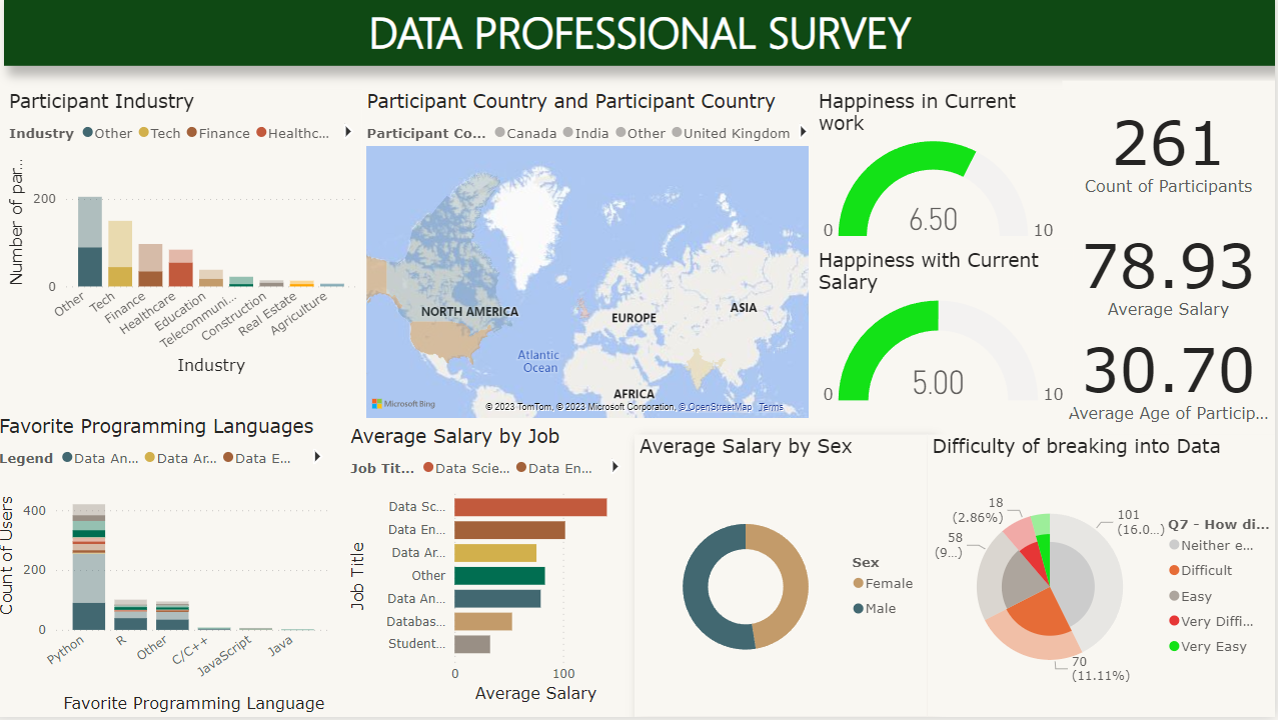

The page's visual inventory and layout, read from the dashboard file:
{"tool":"powerbi","page":{"name":"Page 1","canvas":[1280,720],"ordinal":0},"visuals":[{"type":"textbox","box":[9.6,0,1271,68.6],"z":0},{"type":"card","fields":{"Values":["CountNonNull(Data Professional Survey.Unique ID)"]},"box":[1067.5,83.8,212.5,136.2],"z":1000},{"type":"card","fields":{"Values":["Avg(Data Professional Survey.Q10 - Current Age)"]},"box":[1067.5,320,212.5,117.5],"z":2000},{"type":"barChart","title":"Average Salary by Job","fields":{"Y":["Avg(Data Professional Survey.Average Salary)"],"Category":["Data Professional Survey.Q1 - Which Title Best Fits your Current Role?.1"],"Series":["Data Professional Survey.Q1 - Which Title Best Fits your Current Role?.1"]},"box":[351.2,427.5,288.8,282.5],"z":3000},{"type":"card","fields":{"Values":["Avg(Data Professional Survey.Average Salary)"]},"box":[1067.5,206.2,212.5,136.2],"z":4000},{"type":"columnChart","title":"Favorite Programming Languages","fields":{"Category":["Data Professional Survey.Q5 - Favorite Programming Language.1"],"Y":["CountNonNull(Data Professional Survey.Unique ID)"],"Series":["Data Professional Survey.Q1 - Which Title Best Fits your Current Role?.1"]},"box":[0,417.5,342.5,302.5],"z":5000},{"type":"filledMap","fields":{"Category":["Data Professional Survey.Q11 - Which Country do you live in?.1"],"Series":["Data Professional Survey.Q11 - Which Country do you live in?.1"]},"box":[367.5,92.5,451.2,333.8],"z":6000},{"type":"gauge","title":"Happiness in  Current work","fields":{"Y":["Avg(Data Professional Survey.Q6 - How Happy are you in your Current Position with the following? (Coworkers))"],"MinValue":["Min(Data Professional Survey.Q6 - How Happy are you in your Current Position with the following? (Coworkers))1"],"MaxValue":["Max(Data Professional Survey.Q6 - How Happy are you in your Current Position with the following? (Coworkers))2"]},"box":[818.8,92.5,250,158.8],"z":7000},{"type":"gauge","title":"Happiness with Current  Salary","fields":{"Y":["Avg(Data Professional Survey.Q6 - How Happy are you in your Current Position with the following? (Salary))"],"MinValue":["Min(Data Professional Survey.Q6 - How Happy are you in your Current Position with the following? (Salary))"],"MaxValue":["Max(Data Professional Survey.Q6 - How Happy are you in your Current Position with the following? (Salary))"]},"box":[818.8,251.2,260,165],"z":8000},{"type":"columnChart","title":"Participant Industry","fields":{"Category":["Data Professional Survey.Q4 - What Industry do you work in?.1"],"Y":["CountNonNull(Data Professional Survey.Unique ID)"],"Series":["Data Professional Survey.Q4 - What Industry do you work in?.1"]},"box":[10,92.5,357.5,290],"z":9000},{"type":"donutChart","title":"Average Salary by Sex","fields":{"Category":["Data Professional Survey.Q9 - Male/Female?"],"Y":["Avg(Data Professional Survey.Average Salary)"]},"box":[640,437.5,292.5,282.5],"z":10000},{"type":"pieChart","title":"Difficulty of breaking into Data","fields":{"Category":["Data Professional Survey.Q7 - How difficult was it for you to break into Data?"],"Y":["CountNonNull(Data Professional Survey.Unique ID)"]},"box":[932.5,437.5,347.5,282.5],"z":11000}]}

Visuals, with their boxes in screenshot pixels (x1, y1, x2, y2), scaled from the page's 1280x720 canvas onto the 1278x720 screenshot:
textbox: <box>10,0,1277,69</box>
card - CountNonNull(Data Professional Survey.Unique ID): <box>1066,84,1277,220</box>
card - Avg(Data Professional Survey.Q10 - Current Age): <box>1066,320,1277,438</box>
"Average Salary by Job" barChart: <box>351,428,639,710</box>
card - Avg(Data Professional Survey.Average Salary): <box>1066,206,1277,342</box>
"Favorite Programming Languages" columnChart: <box>0,418,342,719</box>
filledMap - Data Professional Survey.Q11 - Which Country do you live in?.1 x Data Professional Survey.Q11 - Which Country do you live in?.1: <box>367,92,817,426</box>
"Happiness in  Current work" gauge: <box>818,92,1067,251</box>
"Happiness with Current  Salary" gauge: <box>818,251,1077,416</box>
"Participant Industry" columnChart: <box>10,92,367,382</box>
"Average Salary by Sex" donutChart: <box>639,438,931,719</box>
"Difficulty of breaking into Data" pieChart: <box>931,438,1277,719</box>
